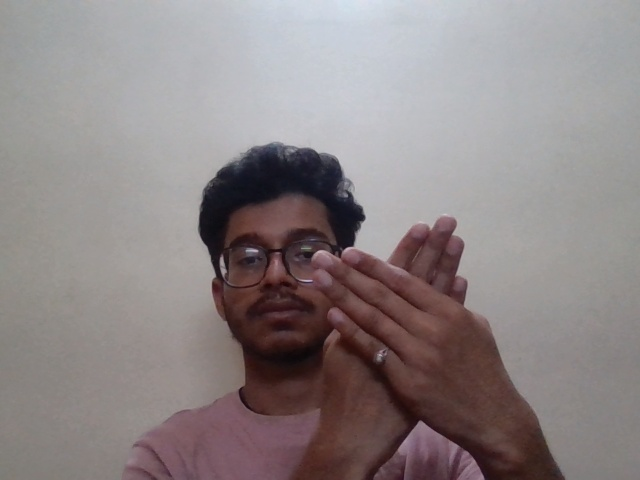what: (312, 211, 530, 437)
